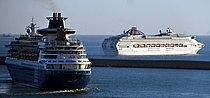Ship: (1, 10, 96, 98), (100, 25, 210, 65)
